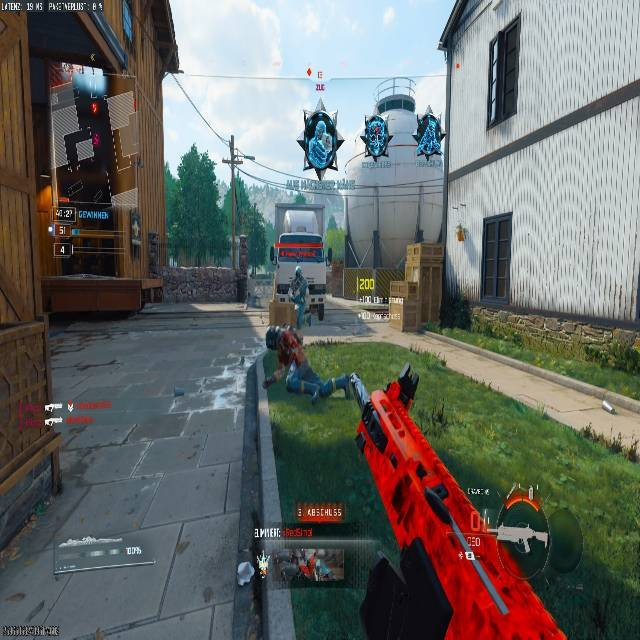head: (294, 268, 302, 279)
player: (281, 269, 329, 327), (414, 108, 441, 162), (362, 115, 392, 160), (288, 269, 311, 327)
